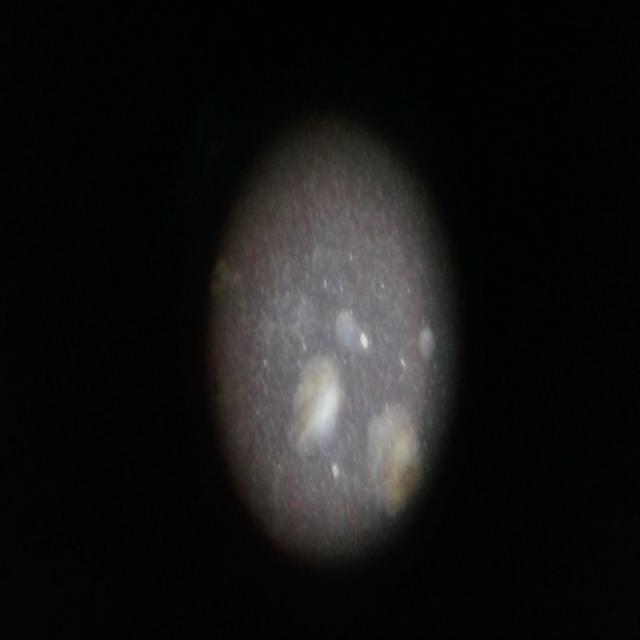alexandrium: (363, 396, 431, 529), (283, 337, 349, 465)
